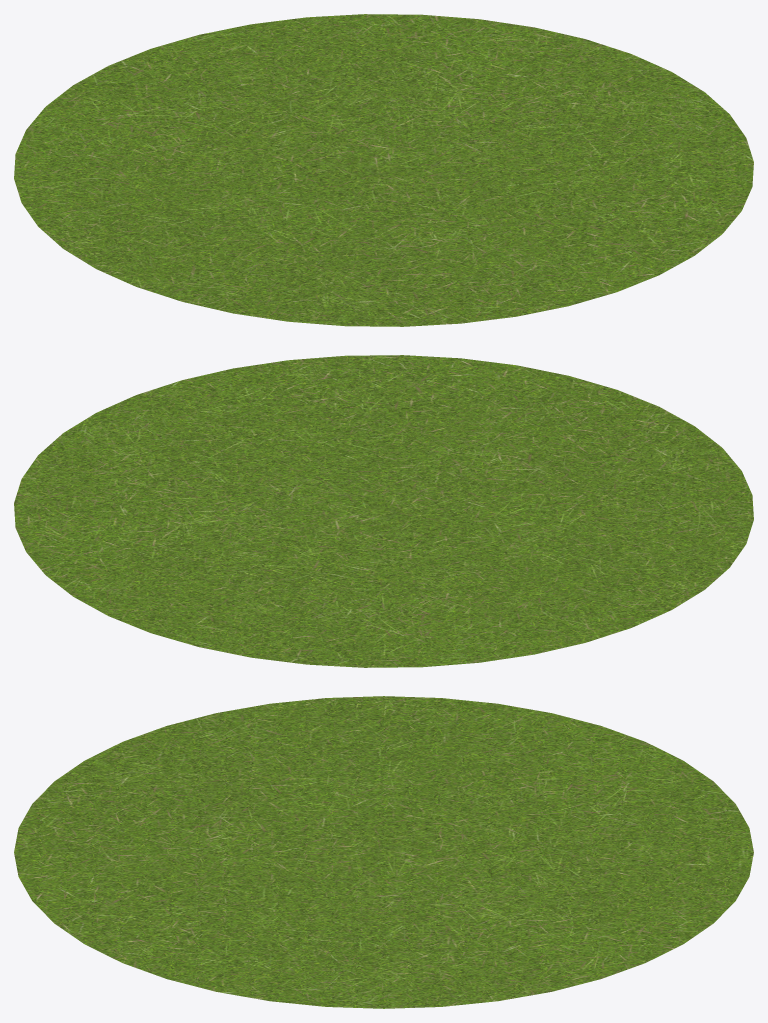
Rendered from Lawn_Round.fbx.
3 views of the same model, one above another, from view 1: azimuth 30°, elevation 25°; view 2: azimuth 150°, elevation 25°; view 3: azimuth 270°, elevation 25° (orthographic).
Parts seen in each view (by area): view 1: Lawn_Round; view 2: Lawn_Round; view 3: Lawn_Round.
Boxes of the visible parts, x1=… form: Lawn_Round: x1=14, y1=14, x2=753, y2=326; Lawn_Round: x1=14, y1=355, x2=753, y2=667; Lawn_Round: x1=14, y1=696, x2=753, y2=1008.
Bounding box in the file's own units: 1.5 × 2.44e-07 × 1.5.
Materials: 1 (1 with a texture image).
